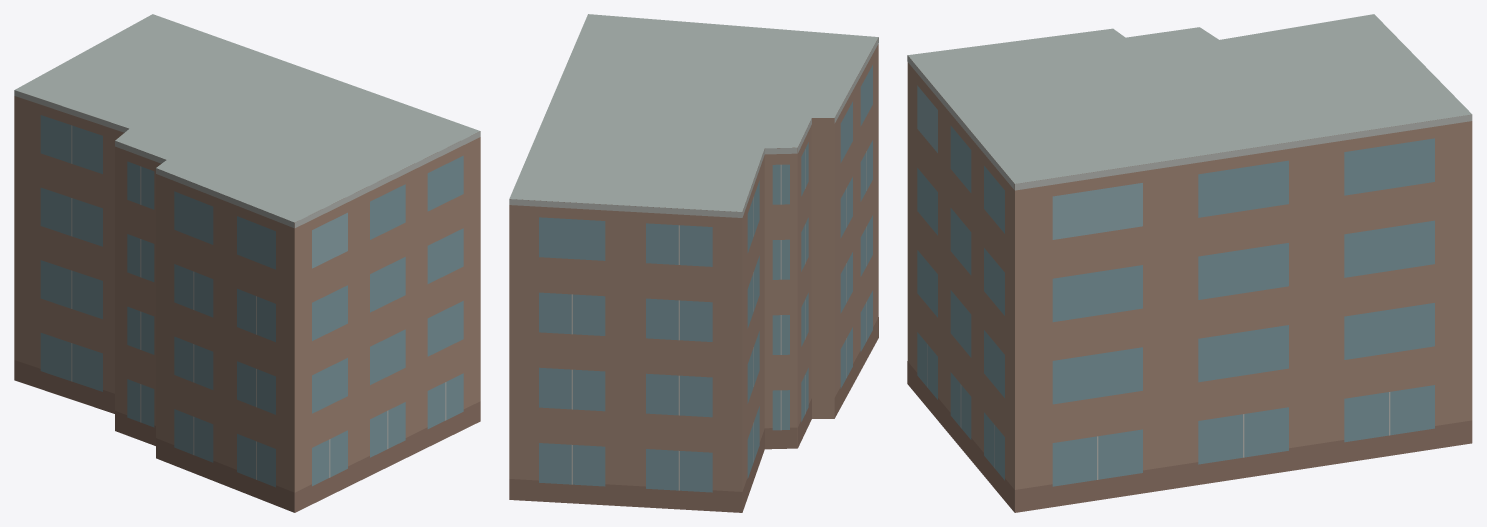
File: survey-upis-32863624.glb
The picture shows the model from 3 angles, left to right: view 1: azimuth 30°, elevation 25°; view 2: azimuth 150°, elevation 25°; view 3: azimuth 270°, elevation 25°; orthographic projection. The views are drawn at different scales.
Visible parts, largest first — view 1: survey-upis-32863624.tmp; view 2: survey-upis-32863624.tmp; view 3: survey-upis-32863624.tmp.
Boxes of the visible parts, x1,y1,x2,y2 form: survey-upis-32863624.tmp: [14, 14, 480, 512]; survey-upis-32863624.tmp: [509, 14, 878, 512]; survey-upis-32863624.tmp: [907, 14, 1472, 512].
Size of the model in its own units: 13.53 by 12.2 by 19.
